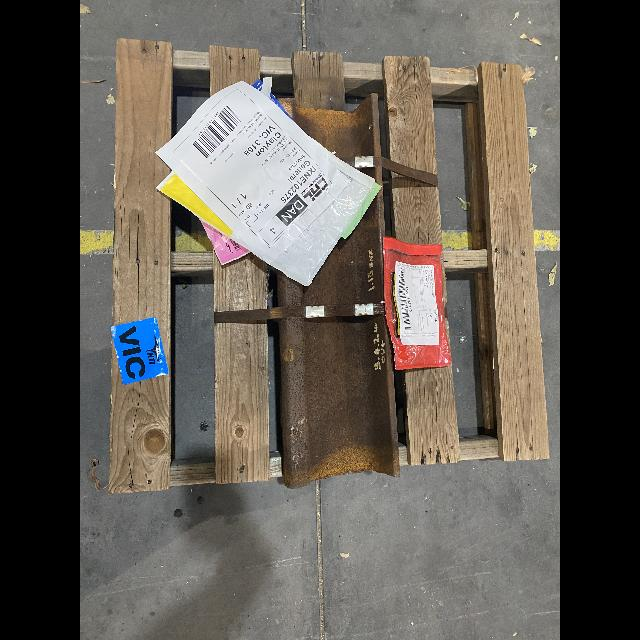Ferrous Metal: (279, 314, 400, 489), (276, 167, 385, 307), (277, 93, 381, 158), (213, 303, 386, 323), (338, 157, 438, 188)
